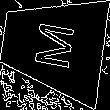M_W: (28, 19, 78, 72)
